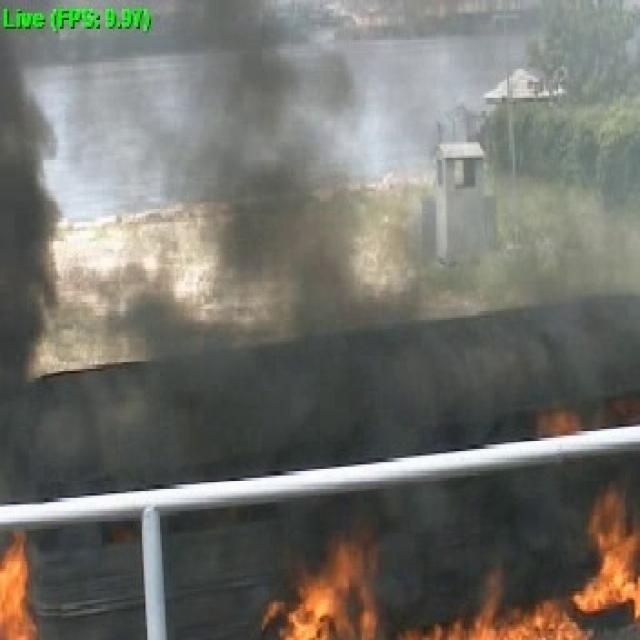Fire: (262, 431, 640, 640)
Smoke: (0, 0, 640, 402)
